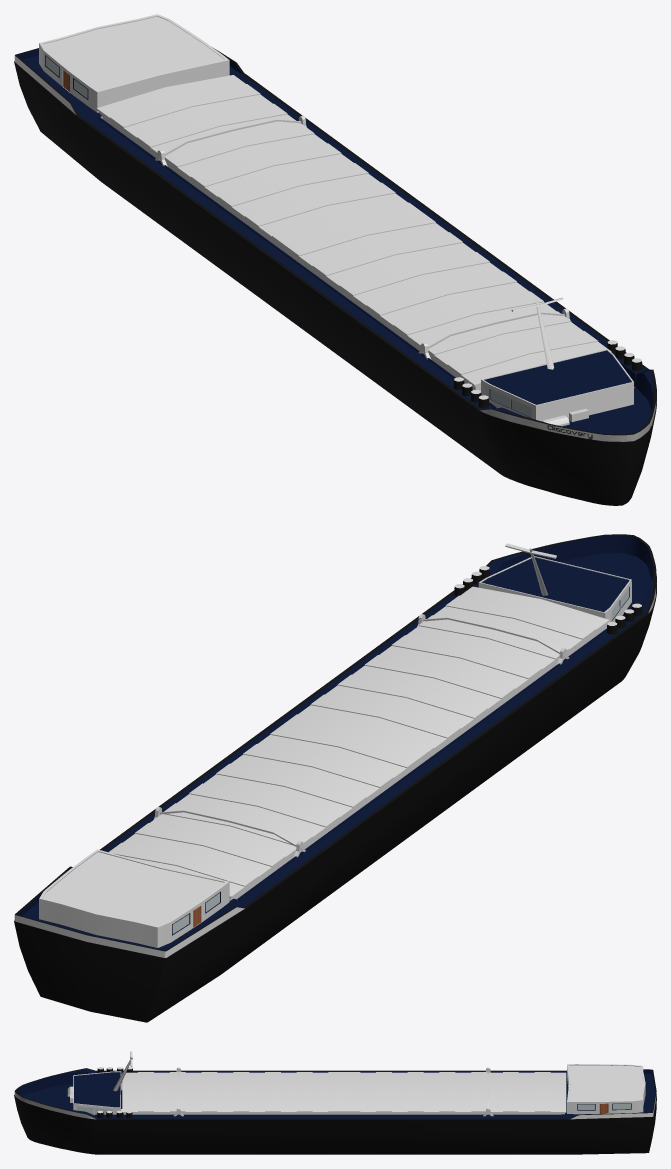
Rendered from Ladingschip_02.fbx.
The picture shows the model from 3 angles, top to bottom: view 1: azimuth 30°, elevation 25°; view 2: azimuth 150°, elevation 25°; view 3: azimuth 270°, elevation 25°; orthographic projection. The views are drawn at different scales.
Parts seen in each view (by area): view 1: Droge lading schip frame, cargo box, Just needs a name, metal things?, CylinderShapedThings; view 2: Droge lading schip frame, cargo box, Just needs a name, metal things?, CylinderShapedThings; view 3: Droge lading schip frame, cargo box, Just needs a name, CylinderShapedThings, metal things?.
Part boxes in pixels (left/top/right/bottom): Droge lading schip frame: left=14, top=14, right=656, bottom=505; cargo box: left=96, top=75, right=611, bottom=390; Just needs a name: left=481, top=349, right=633, bottom=421; metal things?: left=155, top=115, right=569, bottom=359; CylinderShapedThings: left=453, top=340, right=642, bottom=408; Droge lading schip frame: left=14, top=534, right=656, bottom=1022; cargo box: left=109, top=586, right=609, bottom=900; Just needs a name: left=478, top=556, right=631, bottom=628; metal things?: left=153, top=614, right=569, bottom=857; CylinderShapedThings: left=454, top=566, right=642, bottom=634; Droge lading schip frame: left=14, top=1064, right=656, bottom=1154; cargo box: left=122, top=1072, right=566, bottom=1114; Just needs a name: left=73, top=1071, right=121, bottom=1115; CylinderShapedThings: left=97, top=1067, right=132, bottom=1118; metal things?: left=173, top=1067, right=493, bottom=1116.
Bounding box in the file's own units: 2146 × 1670 × 11961.
